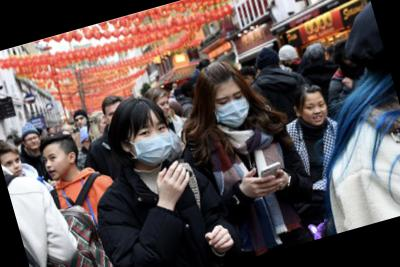with_mask: (129, 116, 180, 169), (211, 87, 255, 133)
without_mask: (41, 146, 73, 182), (299, 96, 333, 129), (2, 154, 26, 179), (24, 131, 44, 152), (157, 98, 174, 118), (74, 115, 90, 129)
